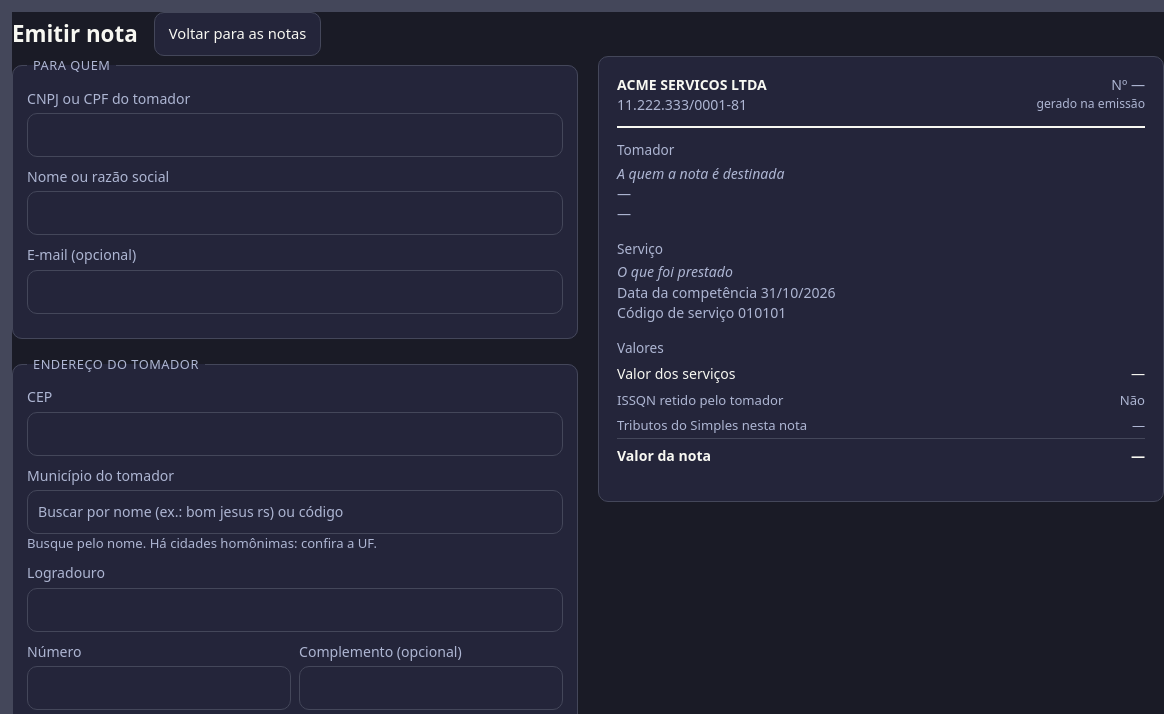
it: exceção na consulta CNPJ vira erro recuperável e botão repete a consulta
Type "11222333000181" into the field labelled "CNPJ ou CPF do tomador" at (295, 135), box [27,113,563,157]
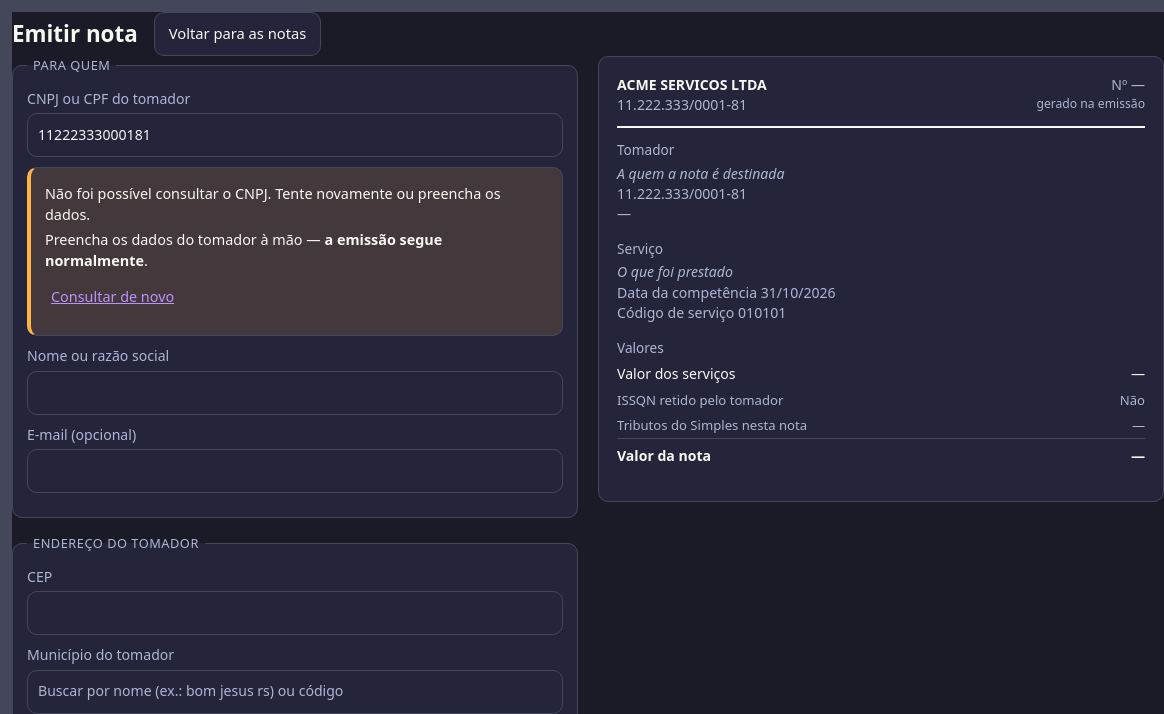
Now the text "Não foi possível consultar o CNPJ" is shown, box [45,184,501,224]
Click the button "Consultar de novo" at (113, 298), box [45,276,180,320]
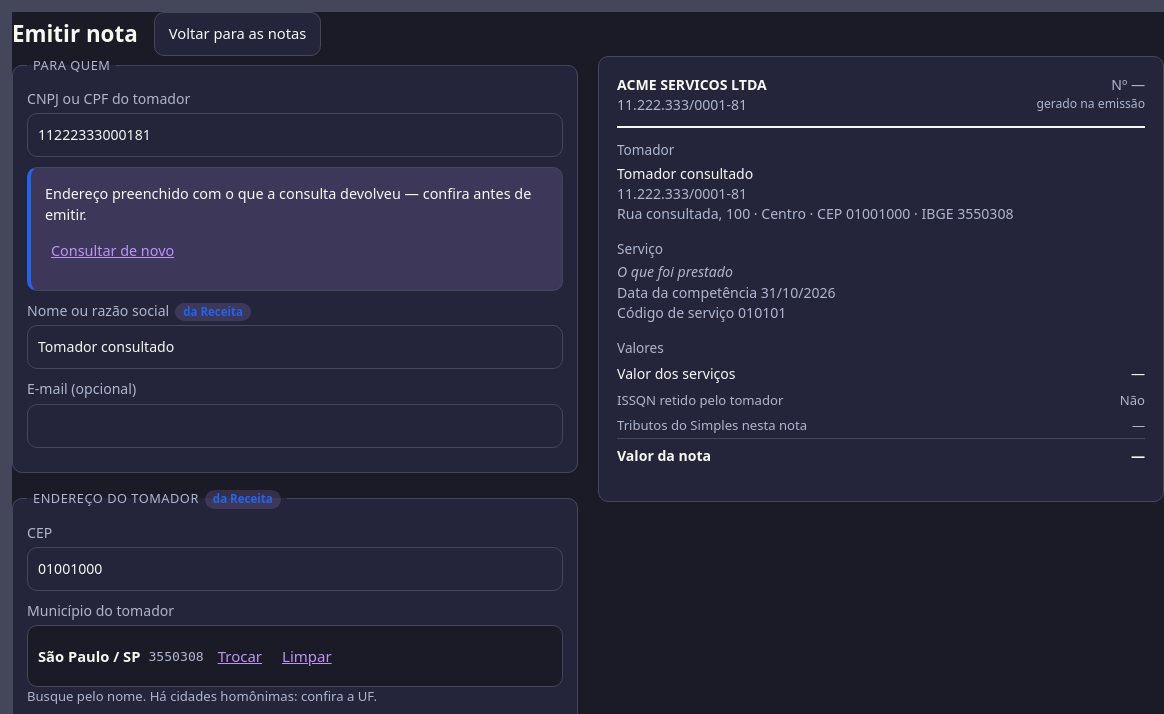
Now the text "Não foi possível consultar o CNPJ" is gone
